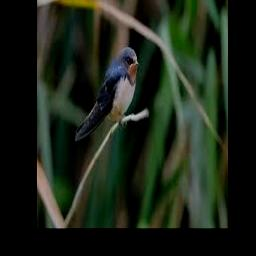Swallow: (73, 47, 138, 141)
